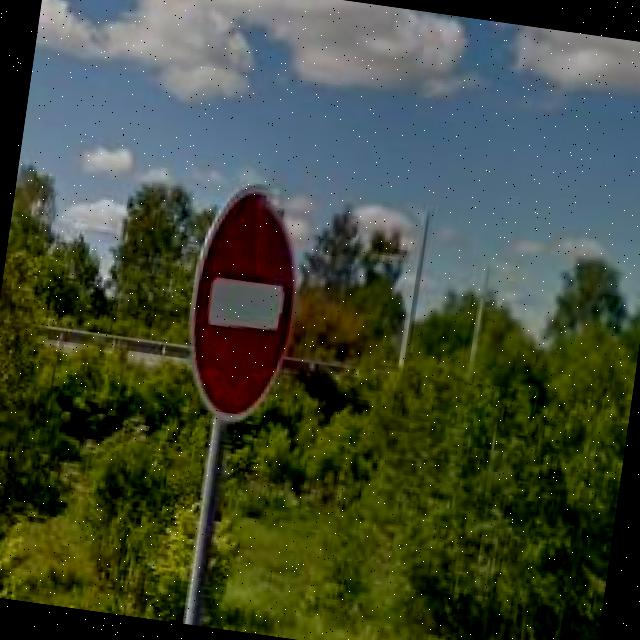Zakaz wjazdu: (173, 177, 314, 430)
